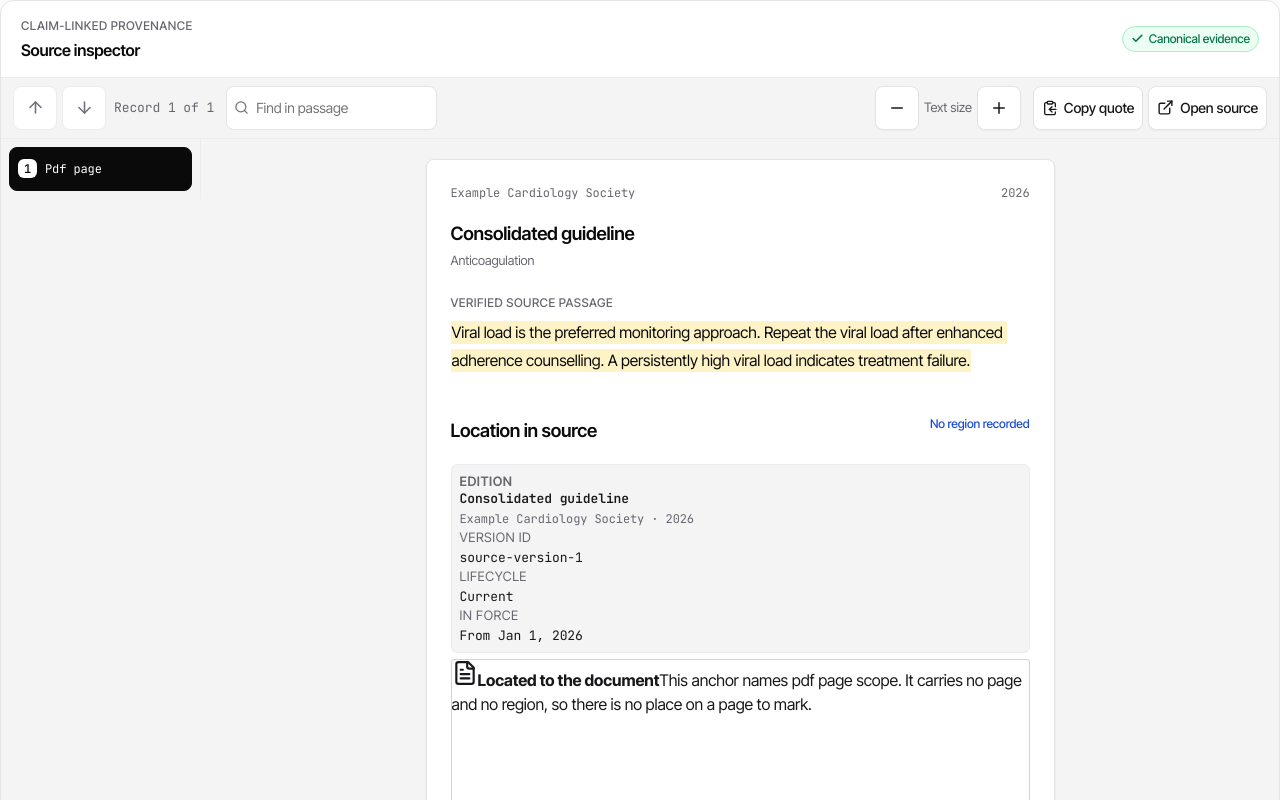
Test: SourceViewer, finding a word in a passage › says plainly when the passage does not contain it
Type "creatinine" into the search field labelled "Find in passage" at (331, 108), box [226,86,437,130]
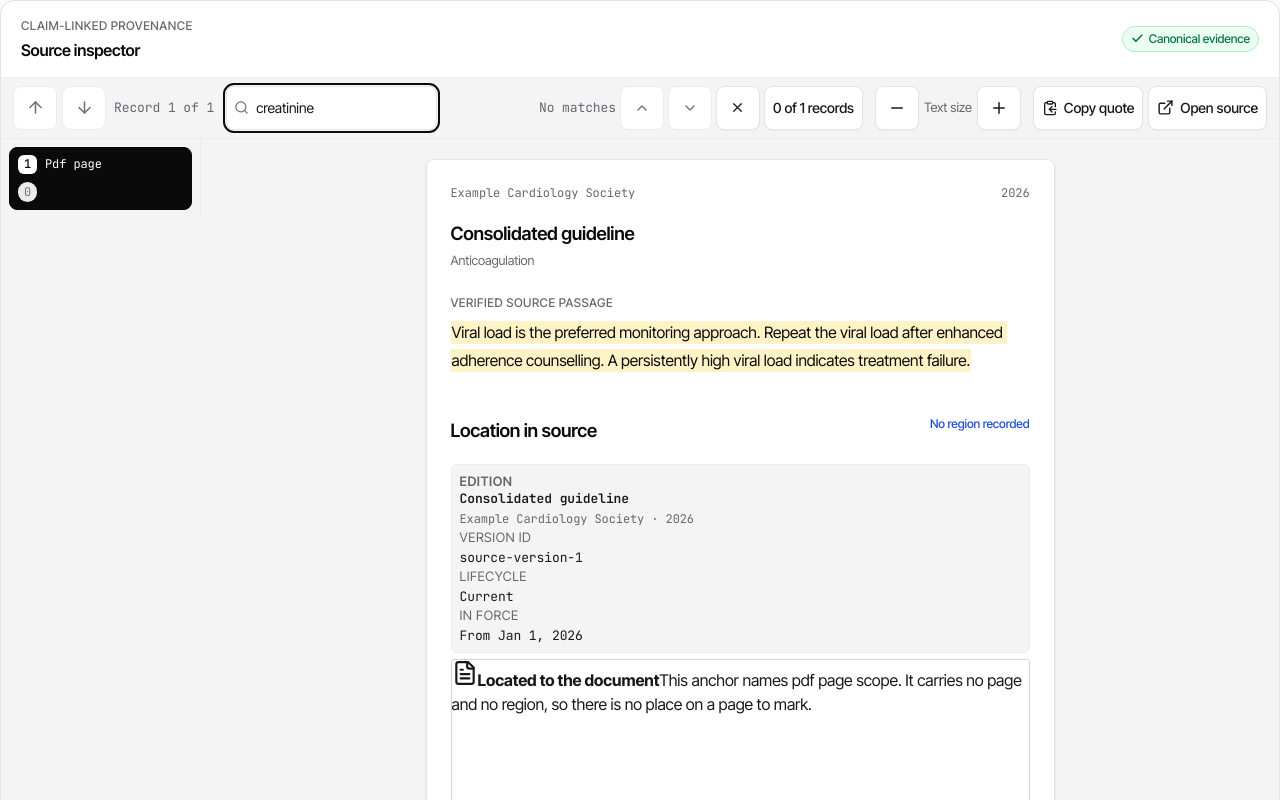
Expected: the button named "Next match" is disabled, [668,86,712,130]
Now the text "No matches" is shown, box [539,98,616,118]
